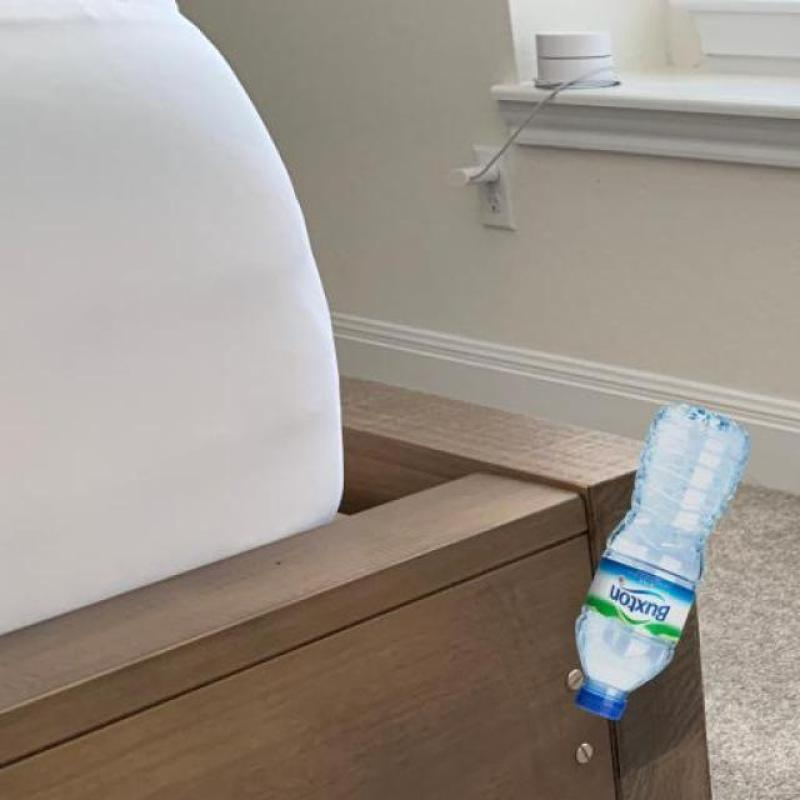botella: (574, 398, 756, 717)
